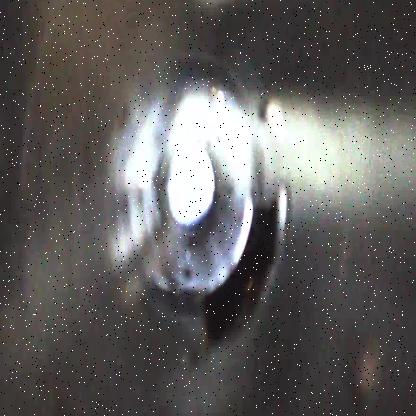Crack2: (206, 186, 288, 346)
